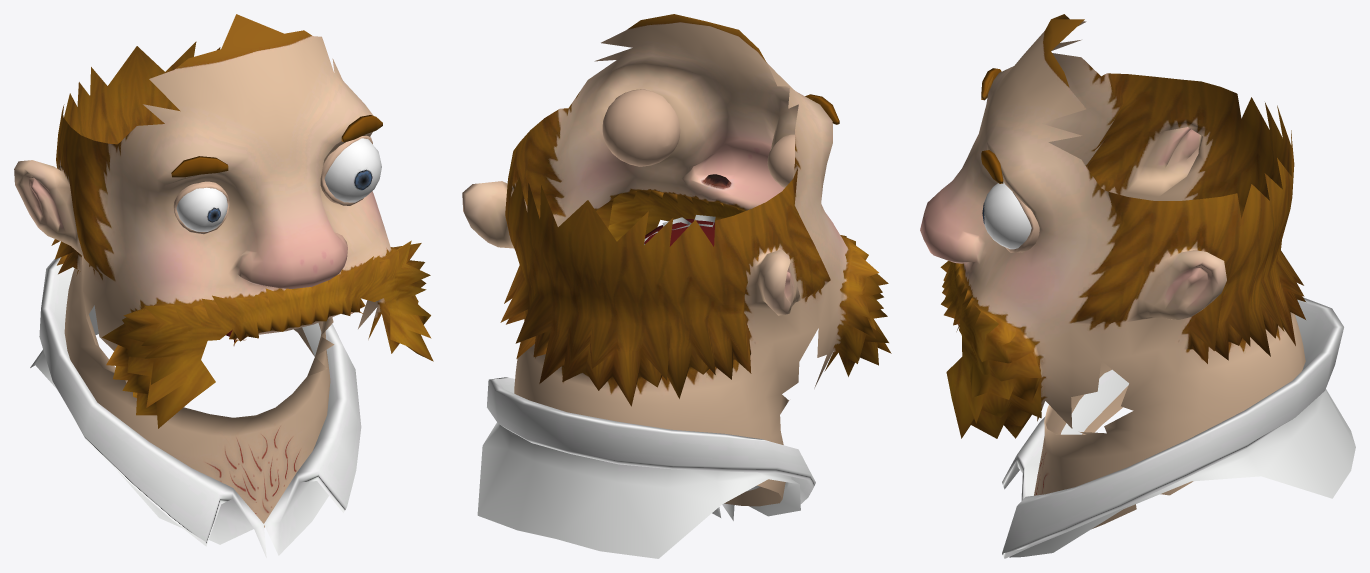
File: crazydave_cabeza.obj
The picture shows the model from 3 angles, left to right: view 1: azimuth 30°, elevation 25°; view 2: azimuth 150°, elevation 25°; view 3: azimuth 270°, elevation 25°; orthographic projection. The views are drawn at different scales.
Visible parts, largest first — view 1: crazydave_cabeza; view 2: crazydave_cabeza; view 3: crazydave_cabeza.
Part boxes in pixels (x1=…): crazydave_cabeza: x1=14, y1=14, x2=433, y2=557; crazydave_cabeza: x1=462, y1=14, x2=891, y2=558; crazydave_cabeza: x1=920, y1=14, x2=1355, y2=558.
Size of the model in its own units: 0.4227 by 0.6572 by 0.4851.
